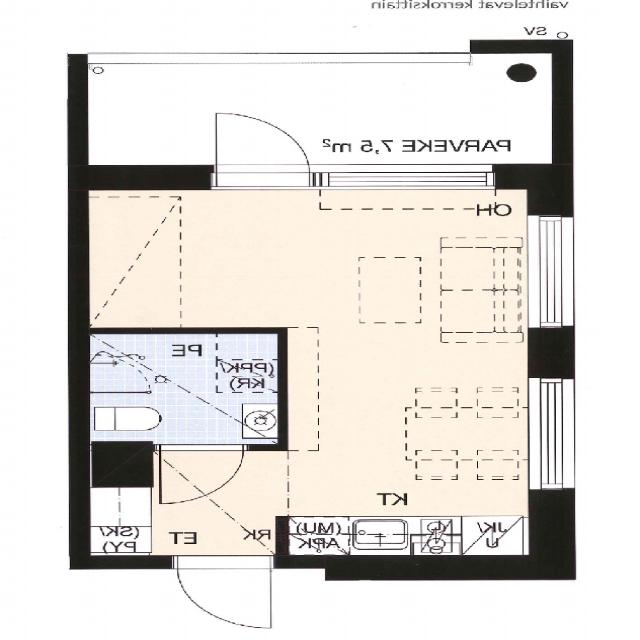door: (217, 105, 309, 189), (178, 555, 270, 628), (161, 444, 243, 503)
